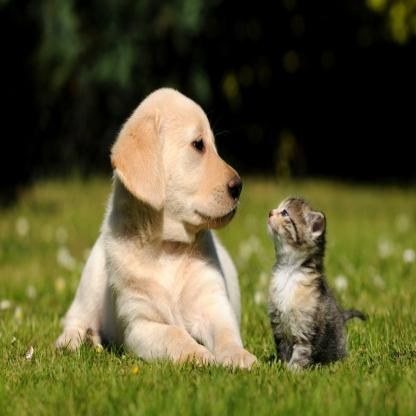cat: (249, 172, 353, 294)
dog: (108, 81, 258, 274)
